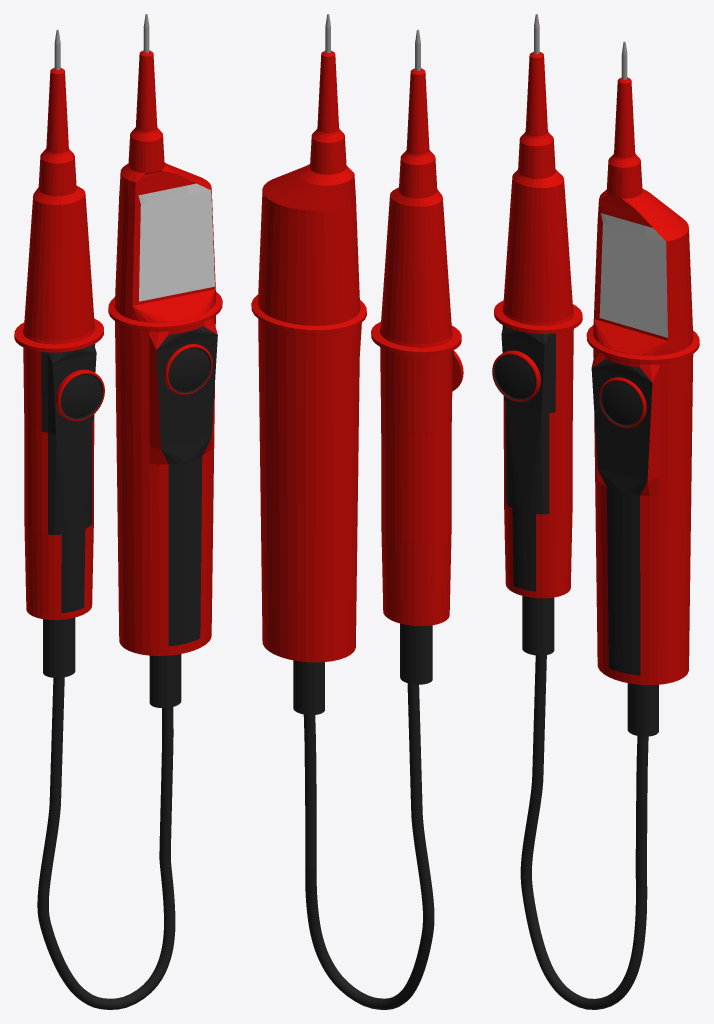
Rendered from mesurement-tool-duspol.fbx.
3 views of the same model, side by side, from view 1: azimuth 30°, elevation 25°; view 2: azimuth 150°, elevation 25°; view 3: azimuth 330°, elevation 25° (orthographic). The views are drawn at different scales.
Parts seen in each view (by area): view 1: duspol-R, duspol-L, cable, button.001, button; view 2: duspol-R, duspol-L, cable; view 3: duspol-R, duspol-L, cable, button.001, button.
Part boxes in pixels (bbox=[...]): duspol-R: bbox=[108, 14, 222, 708]; duspol-L: bbox=[14, 29, 103, 677]; cable: bbox=[37, 677, 175, 1009]; button.001: bbox=[55, 369, 104, 421]; button: bbox=[164, 344, 212, 395]; duspol-R: bbox=[251, 14, 366, 715]; duspol-L: bbox=[371, 29, 461, 684]; cable: bbox=[303, 683, 434, 1009]; duspol-R: bbox=[586, 41, 699, 736]; duspol-L: bbox=[494, 14, 582, 655]; cable: bbox=[520, 655, 648, 1009]; button.001: bbox=[492, 350, 540, 401]; button: bbox=[599, 377, 646, 427].
Size of the model in its own units: 279 by 1331 by 124.
